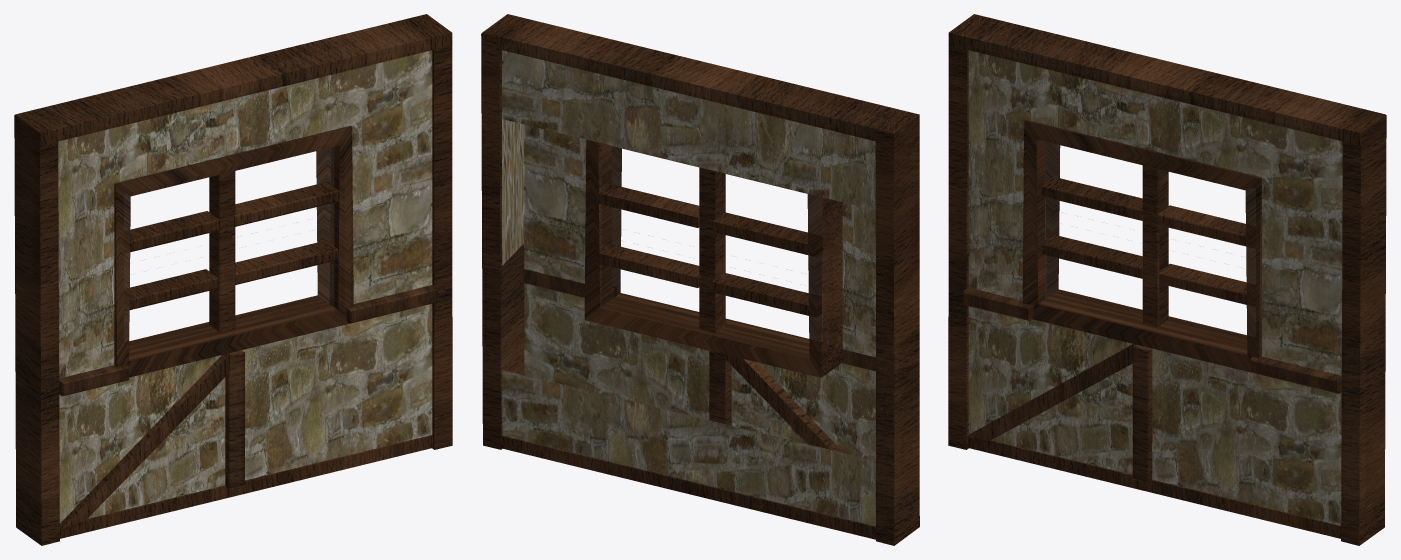
File: BuildingWindow2.fbx
3 views of the same model, side by side, from view 1: azimuth 30°, elevation 25°; view 2: azimuth 150°, elevation 25°; view 3: azimuth 330°, elevation 25° (orthographic).
Visible parts, largest first — view 1: BuildingWindowTile2; view 2: BuildingWindowTile2; view 3: BuildingWindowTile2.
Boxes of the visible parts, x1,y1,x2,y2 form: BuildingWindowTile2: [14, 14, 452, 545]; BuildingWindowTile2: [481, 14, 919, 545]; BuildingWindowTile2: [948, 14, 1386, 545].
Size of the model in its own units: 6.49 by 6.21 by 0.8164.
Materials: 2 (2 with a texture image).
